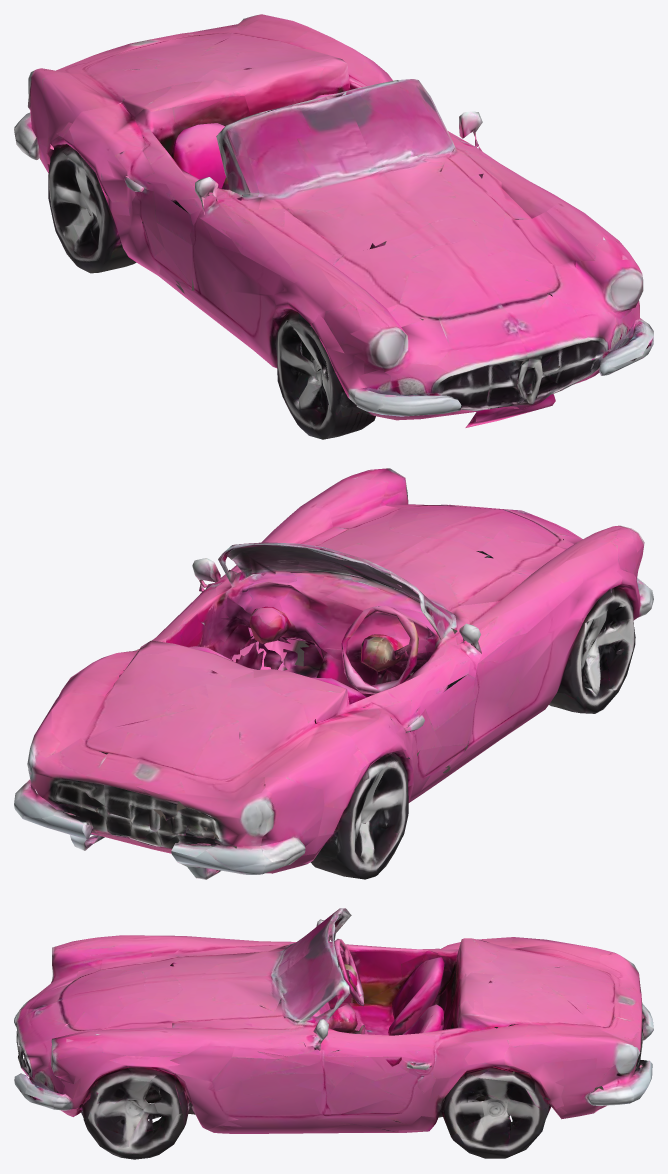
File: getkong-mcar5-lo.glb
3 views of the same model, one above another, from view 1: azimuth 30°, elevation 25°; view 2: azimuth 150°, elevation 25°; view 3: azimuth 270°, elevation 25° (orthographic). The views are drawn at different scales.
Parts seen in each view (by area): view 1: output_unwrapped; view 2: output_unwrapped; view 3: output_unwrapped.
Part boxes in pixels (bbox=[...]): output_unwrapped: bbox=[14, 14, 653, 439]; output_unwrapped: bbox=[14, 468, 653, 879]; output_unwrapped: bbox=[14, 908, 653, 1159].
Bounding box in the file's own units: 0.8819 × 0.5794 × 1.99.
1 material, 1 textured.
